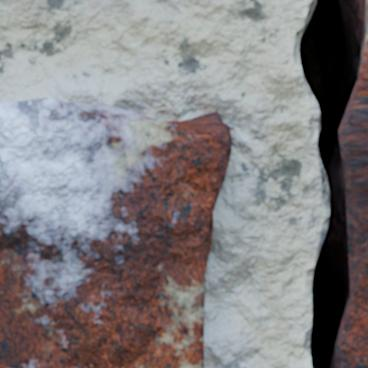brick: (0, 97, 230, 367), (339, 18, 367, 367)
crack: (290, 0, 367, 367)
